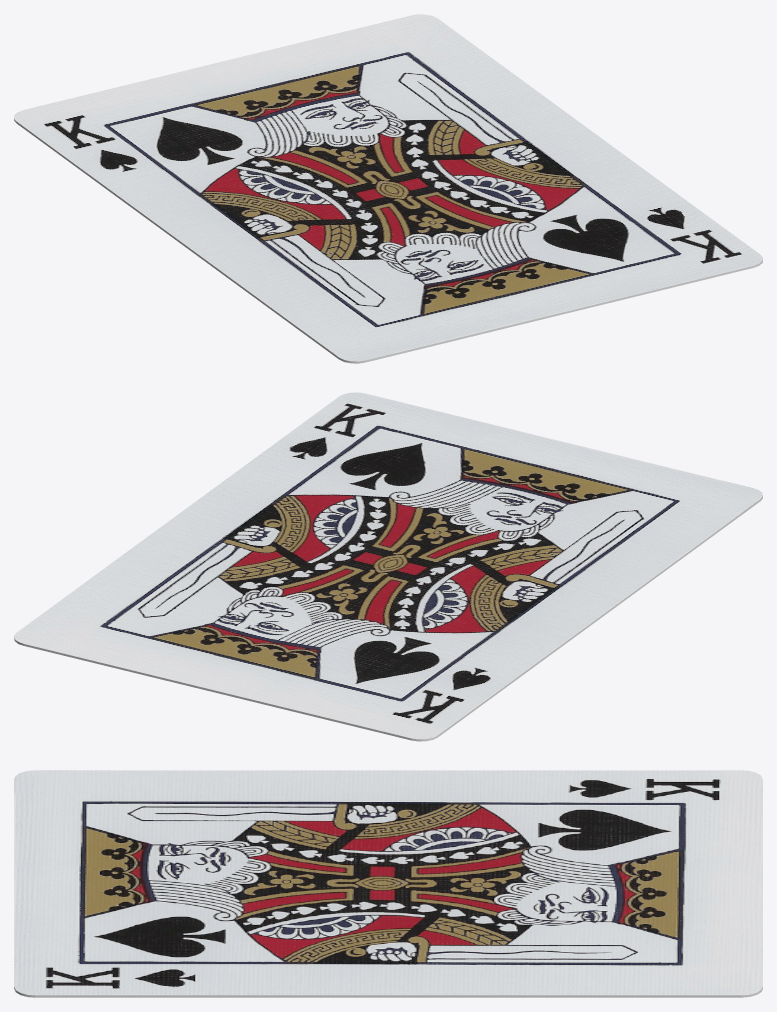
Rendered from spades_K.fbx.
3 renders of one model, top to bottom at view 1: azimuth 30°, elevation 25°; view 2: azimuth 150°, elevation 25°; view 3: azimuth 270°, elevation 25°, orthographic. The views are drawn at different scales.
Parts seen in each view (by area): view 1: Spades_K_2; view 2: Spades_K_2; view 3: Spades_K_2.
Part boxes in pixels (<box>): Spades_K_2: <box>14,14,762,363</box>; Spades_K_2: <box>14,392,762,741</box>; Spades_K_2: <box>14,770,762,997</box>.
Bounding box in the file's own units: 6.26 × 0.029 × 8.8.
3 materials, 2 textured.
